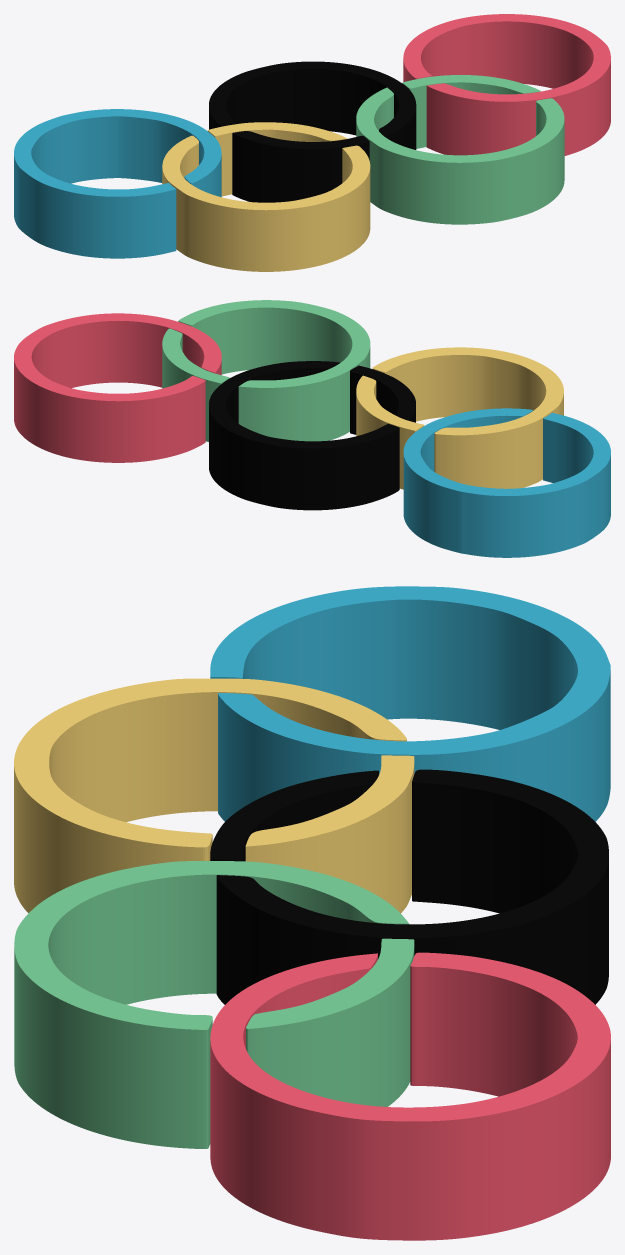
The model's file is ImageToStl_com_cliolympics.glb.
3 renders of one model, top to bottom at view 1: azimuth 30°, elevation 25°; view 2: azimuth 150°, elevation 25°; view 3: azimuth 270°, elevation 25°, orthographic. The views are drawn at different scales.
Visible parts, largest first — view 1: imagetostl_mesh2, imagetostl_mesh0, imagetostl_mesh4, imagetostl_mesh8, imagetostl_mesh12, imagetostl_mesh14, imagetostl_mesh1, imagetostl_mesh3, imagetostl_mesh5, imagetostl_mesh9, imagetostl_mesh13, imagetostl_mesh10 (+4 smaller); view 2: imagetostl_mesh0, imagetostl_mesh2, imagetostl_mesh4, imagetostl_mesh8, imagetostl_mesh12, imagetostl_mesh1, imagetostl_mesh3, imagetostl_mesh5, imagetostl_mesh9, imagetostl_mesh13, imagetostl_mesh11, imagetostl_mesh7 (+4 smaller); view 3: imagetostl_mesh0, imagetostl_mesh2, imagetostl_mesh4, imagetostl_mesh12, imagetostl_mesh8, imagetostl_mesh1, imagetostl_mesh3, imagetostl_mesh6, imagetostl_mesh5, imagetostl_mesh9, imagetostl_mesh13, imagetostl_mesh10 (+4 smaller).
Part boxes in pixels (box(x1,y1,x2,y2)): imagetostl_mesh2: box(14, 116, 221, 258); imagetostl_mesh0: box(403, 21, 610, 155); imagetostl_mesh4: box(356, 95, 564, 224); imagetostl_mesh8: box(162, 143, 370, 271); imagetostl_mesh12: box(209, 68, 416, 149); imagetostl_mesh14: box(232, 133, 369, 202); imagetostl_mesh1: box(403, 14, 610, 101); imagetostl_mesh3: box(14, 109, 221, 196); imagetostl_mesh5: box(356, 87, 564, 162); imagetostl_mesh9: box(162, 135, 370, 210); imagetostl_mesh13: box(209, 61, 416, 136); imagetostl_mesh10: box(207, 129, 346, 196); imagetostl_mesh0: box(14, 321, 221, 462); imagetostl_mesh2: box(403, 410, 610, 557); imagetostl_mesh4: box(178, 307, 370, 441); imagetostl_mesh8: box(372, 355, 563, 488); imagetostl_mesh12: box(209, 363, 399, 510); imagetostl_mesh1: box(14, 313, 221, 401); imagetostl_mesh3: box(403, 408, 610, 495); imagetostl_mesh5: box(178, 300, 370, 387); imagetostl_mesh9: box(372, 347, 563, 435); imagetostl_mesh13: box(209, 361, 399, 448); imagetostl_mesh11: box(356, 375, 423, 430); imagetostl_mesh7: box(162, 328, 229, 383); imagetostl_mesh0: box(210, 954, 610, 1240); imagetostl_mesh2: box(210, 599, 610, 821); imagetostl_mesh4: box(14, 874, 408, 1148); imagetostl_mesh12: box(216, 782, 608, 1004); imagetostl_mesh8: box(14, 692, 406, 912); imagetostl_mesh1: box(210, 952, 610, 1121); imagetostl_mesh3: box(210, 586, 610, 754); imagetostl_mesh6: box(246, 948, 414, 1106); imagetostl_mesh5: box(14, 861, 408, 1029); imagetostl_mesh9: box(14, 678, 406, 847); imagetostl_mesh13: box(217, 769, 608, 938); imagetostl_mesh10: box(245, 765, 414, 913).
Bounding box in the file's own units: 96.28 × 10 × 45.4.
